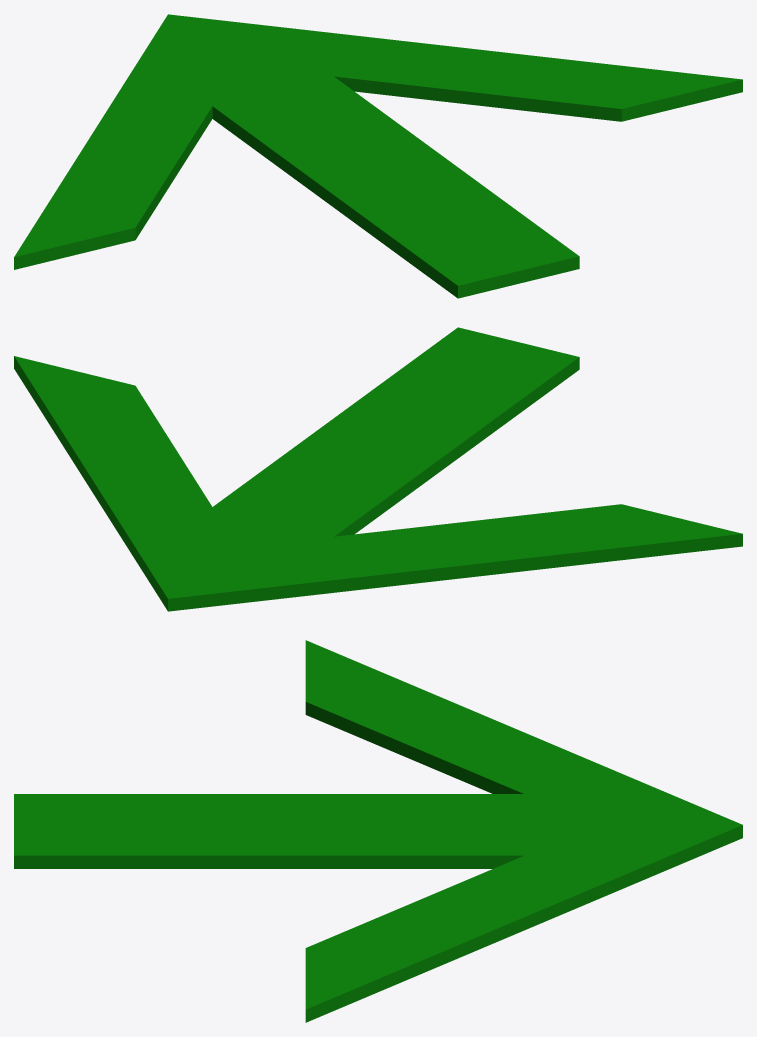
The model's file is arrow.DAE.
3 renders of one model, top to bottom at view 1: azimuth 30°, elevation 25°; view 2: azimuth 150°, elevation 25°; view 3: azimuth 270°, elevation 25°, orthographic. The views are drawn at different scales.
Visible parts, largest first — view 1: Arrow; view 2: Arrow; view 3: Arrow.
Part boxes in pixels (bbox=[...]): Arrow: bbox=[14, 14, 742, 298]; Arrow: bbox=[14, 327, 742, 611]; Arrow: bbox=[14, 640, 742, 1022].
Size of the model in its own units: 60 by 50 by 1.
